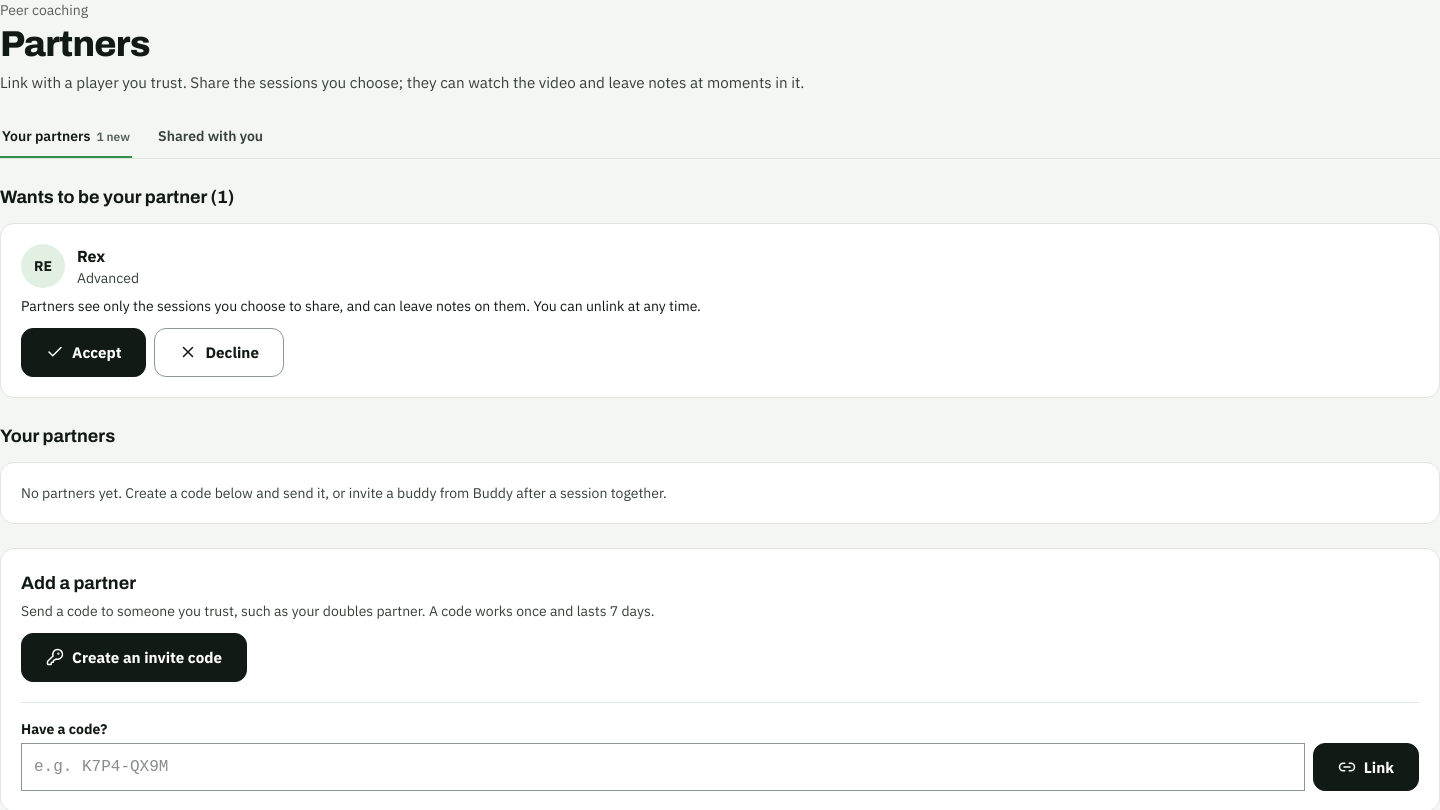
Test case: Partners › accepts an invite from a buddy
Expected: the text "Wants to be your partner (1)" is shown, left=0, top=187, right=234, bottom=207
Expected: the text "1 new" is shown, left=96, top=128, right=130, bottom=144
Click the button "Accept".
click(84, 352)  # box left=21, top=328, right=146, bottom=377
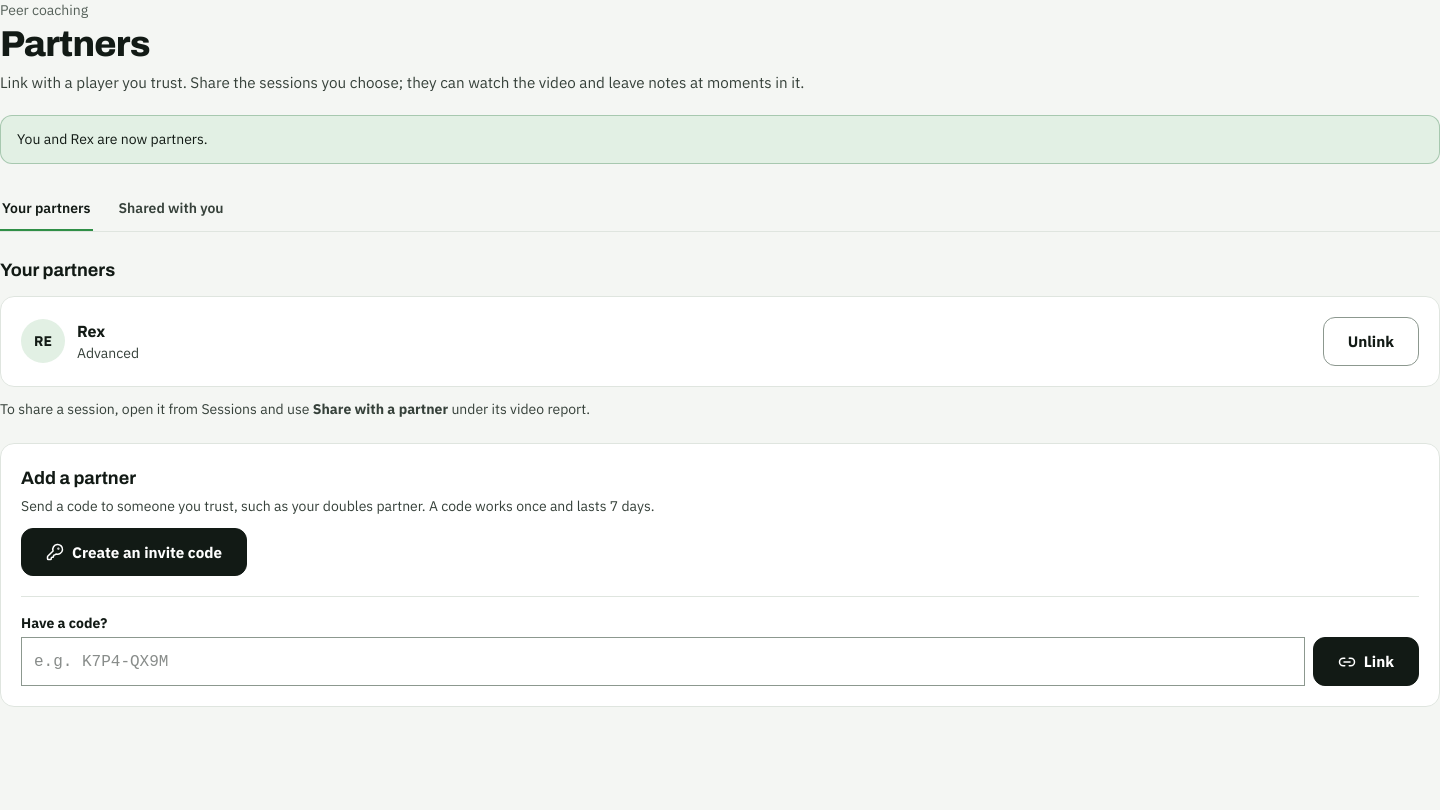
Expected: the text "You and Rex are now partners." is shown, left=0, top=115, right=1439, bottom=164
